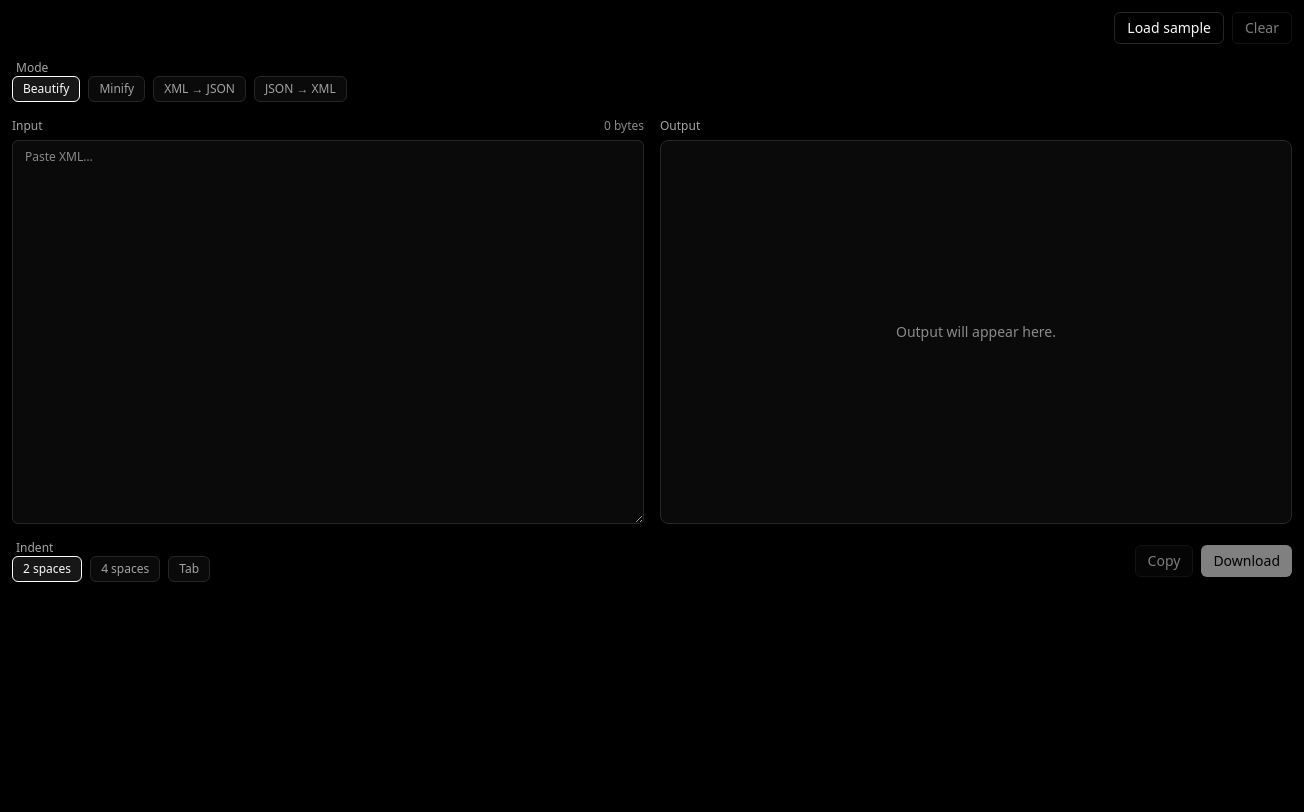
Test case: XmlFormatTool › Clear empties the input and disables itself when empty
Type "<a/>" into the text box with placeholder "Paste XML…" at (328, 332), box [12, 140, 644, 524]
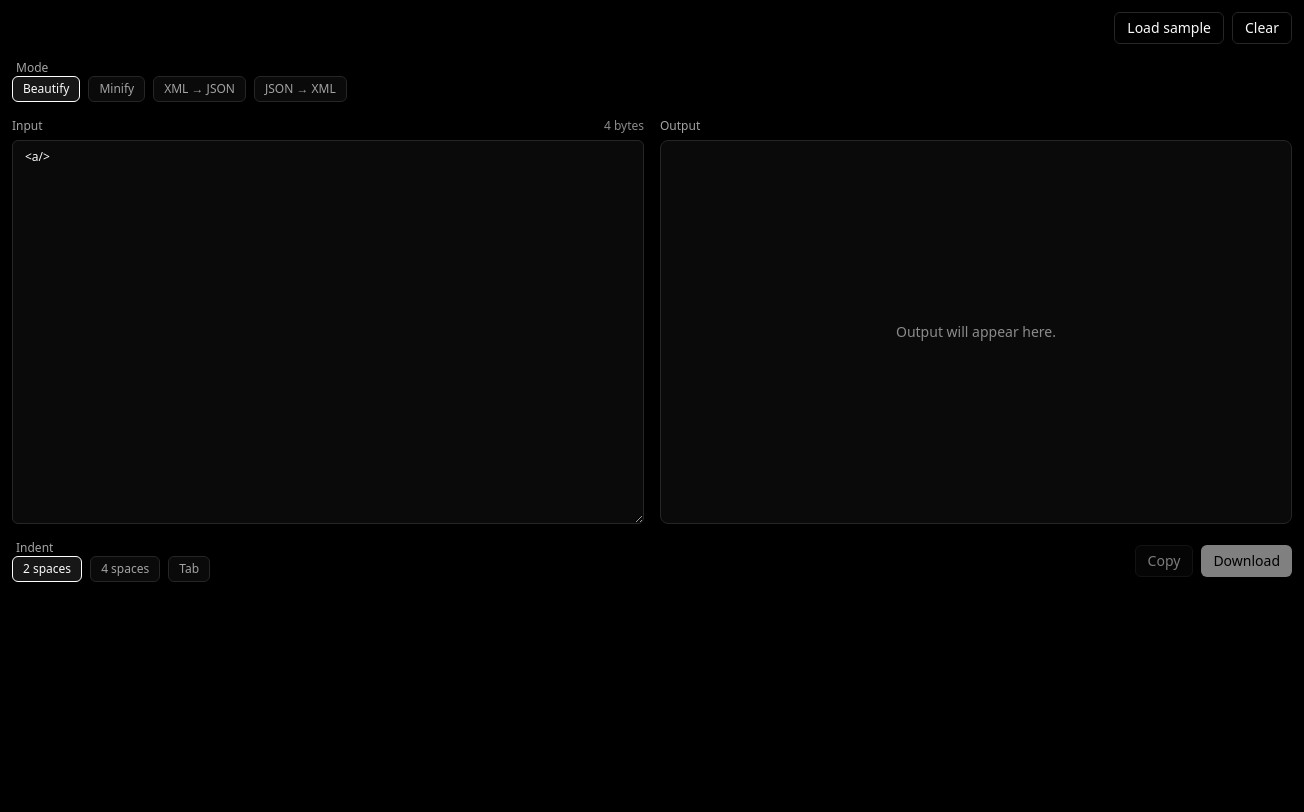
Click the button "Clear" at (1262, 28), box [1232, 12, 1292, 44]
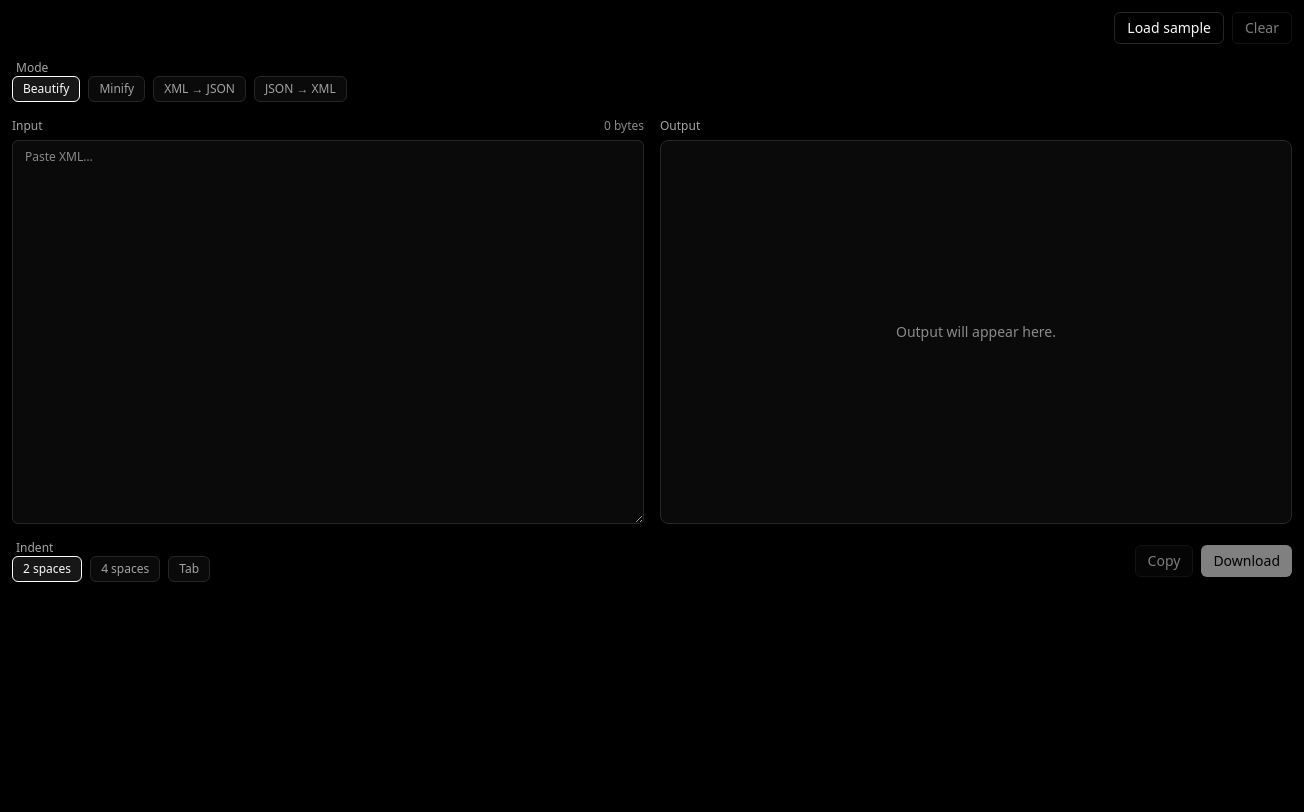
Check: the text box with placeholder "Paste XML…" is empty, box [12, 140, 644, 524]
Check: the button "Clear" is disabled, box [1232, 12, 1292, 44]
